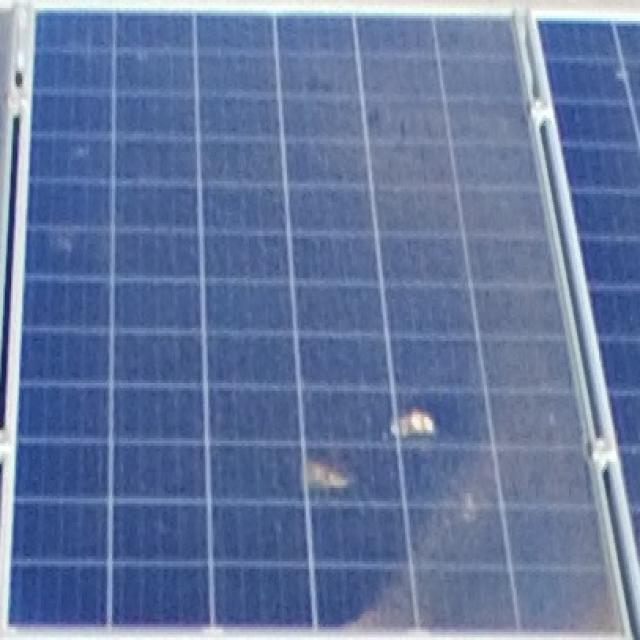Dust: (369, 21, 611, 640), (329, 33, 562, 219)
bird-droppings: (303, 452, 353, 499), (387, 404, 438, 446)
